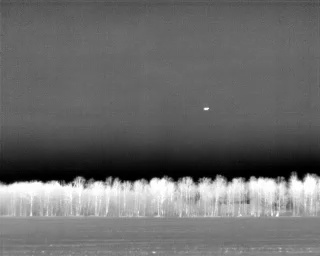DRONE: (201, 104, 212, 114)
